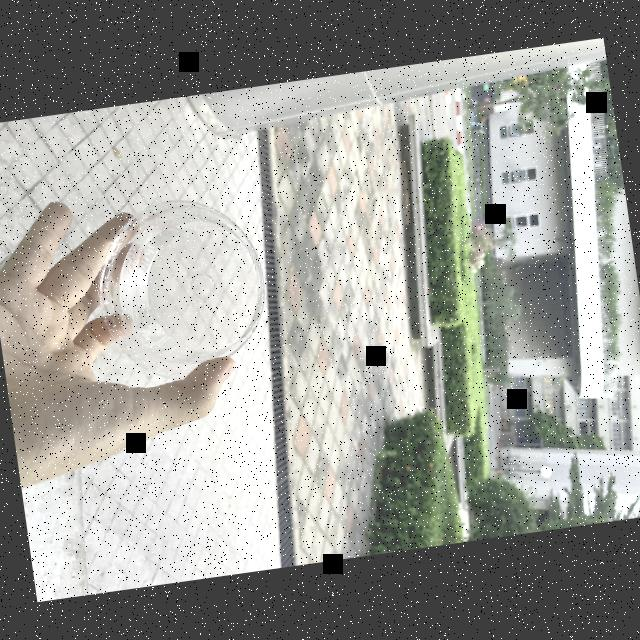plastic_cup_lid: (72, 188, 280, 391)
